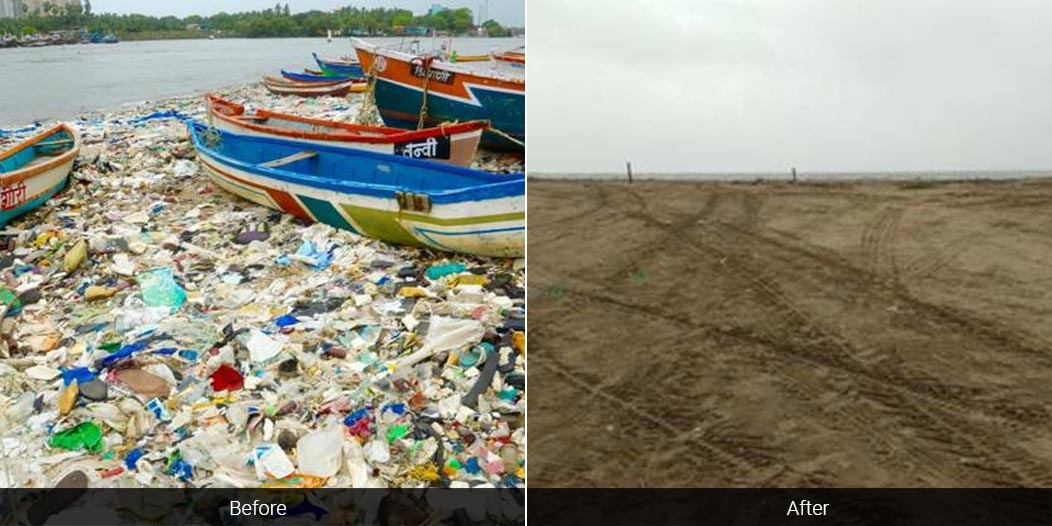BAD: (2, 108, 520, 459), (126, 69, 508, 448), (10, 244, 518, 484), (92, 110, 196, 323)
Good: (536, 164, 1041, 483), (792, 148, 1042, 463), (546, 139, 762, 437)
Household : General: (47, 416, 117, 469), (131, 266, 186, 313)
IGNORE: (220, 496, 295, 522), (778, 491, 833, 522)
Industrial : Recyclable: (23, 466, 92, 524)
